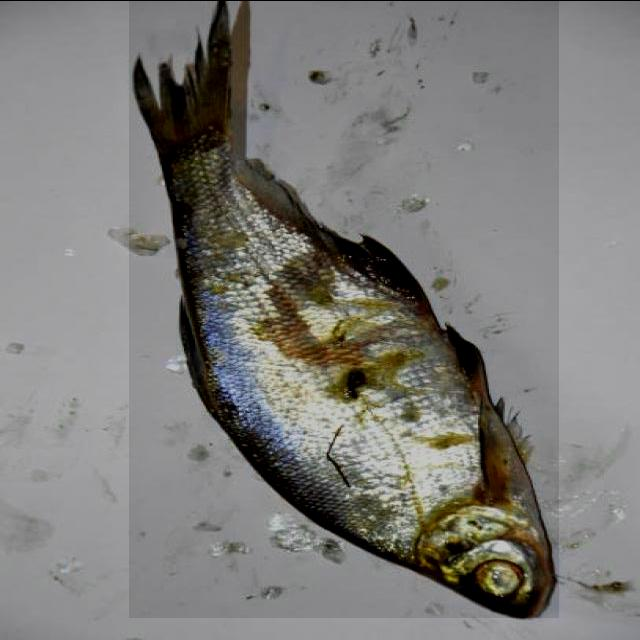EUS Disease: (129, 0, 559, 617)
